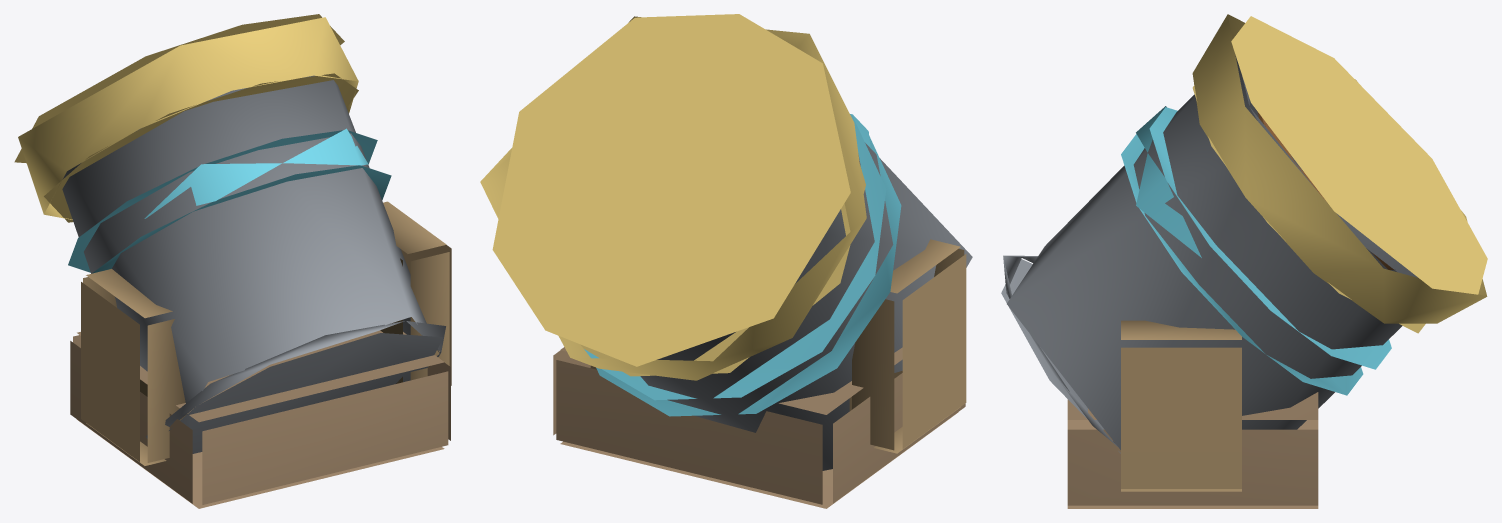
Rendered from rune_mortar_tube_lod2.glb.
3 renders of one model, left to right at view 1: azimuth 30°, elevation 25°; view 2: azimuth 150°, elevation 25°; view 3: azimuth 270°, elevation 25°, orthographic. The views are drawn at different scales.
Parts seen in each view (by area): view 1: rune_mortar_tube.001; view 2: rune_mortar_tube.001; view 3: rune_mortar_tube.001.
Boxes of the visible parts, x1,y1,x2,y2 form: rune_mortar_tube.001: (14, 14, 451, 508); rune_mortar_tube.001: (480, 14, 972, 508); rune_mortar_tube.001: (1001, 14, 1487, 508).
Bounding box in the file's own units: 1.35 × 1.69 × 1.69.
